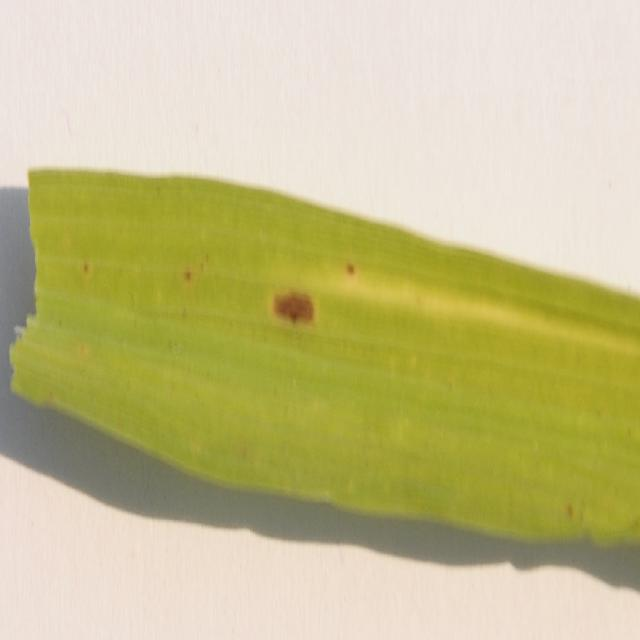brown spot: (265, 276, 323, 340), (340, 236, 362, 300), (179, 244, 196, 296)
